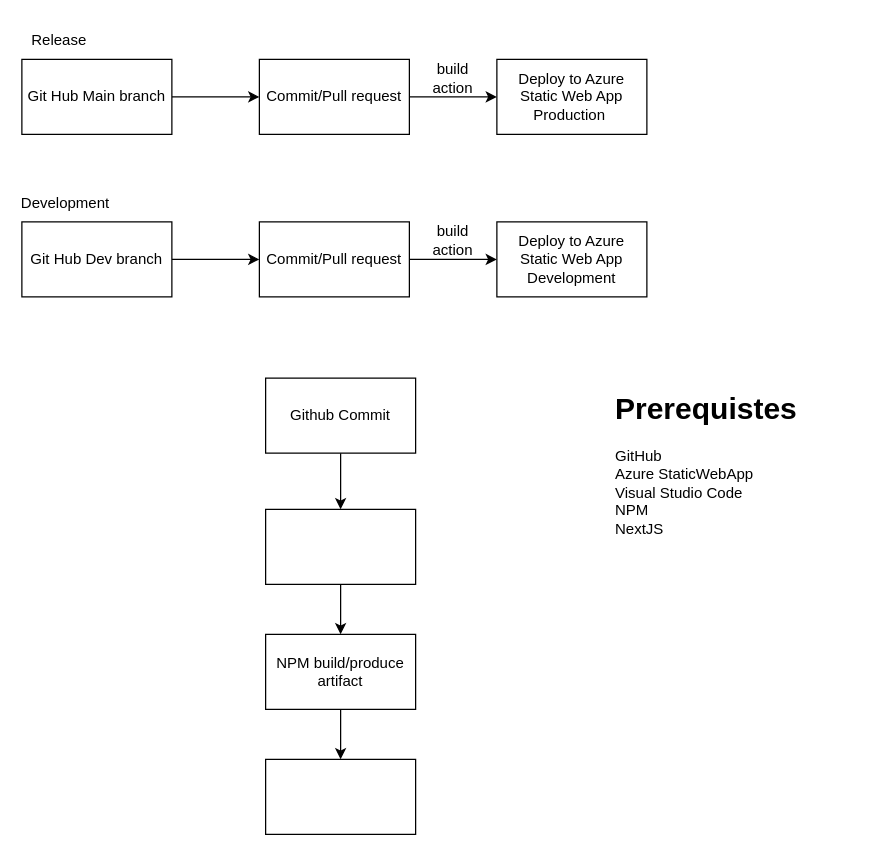
This 869x856 diagram has some shape labels left out. The shapes that lost their labels are listed below. From the top down, each one's centre as x and y in pixels, then its label:
At [340,546]: "NPM install".
At [340,796]: "Deploy to Azure Static web app".
